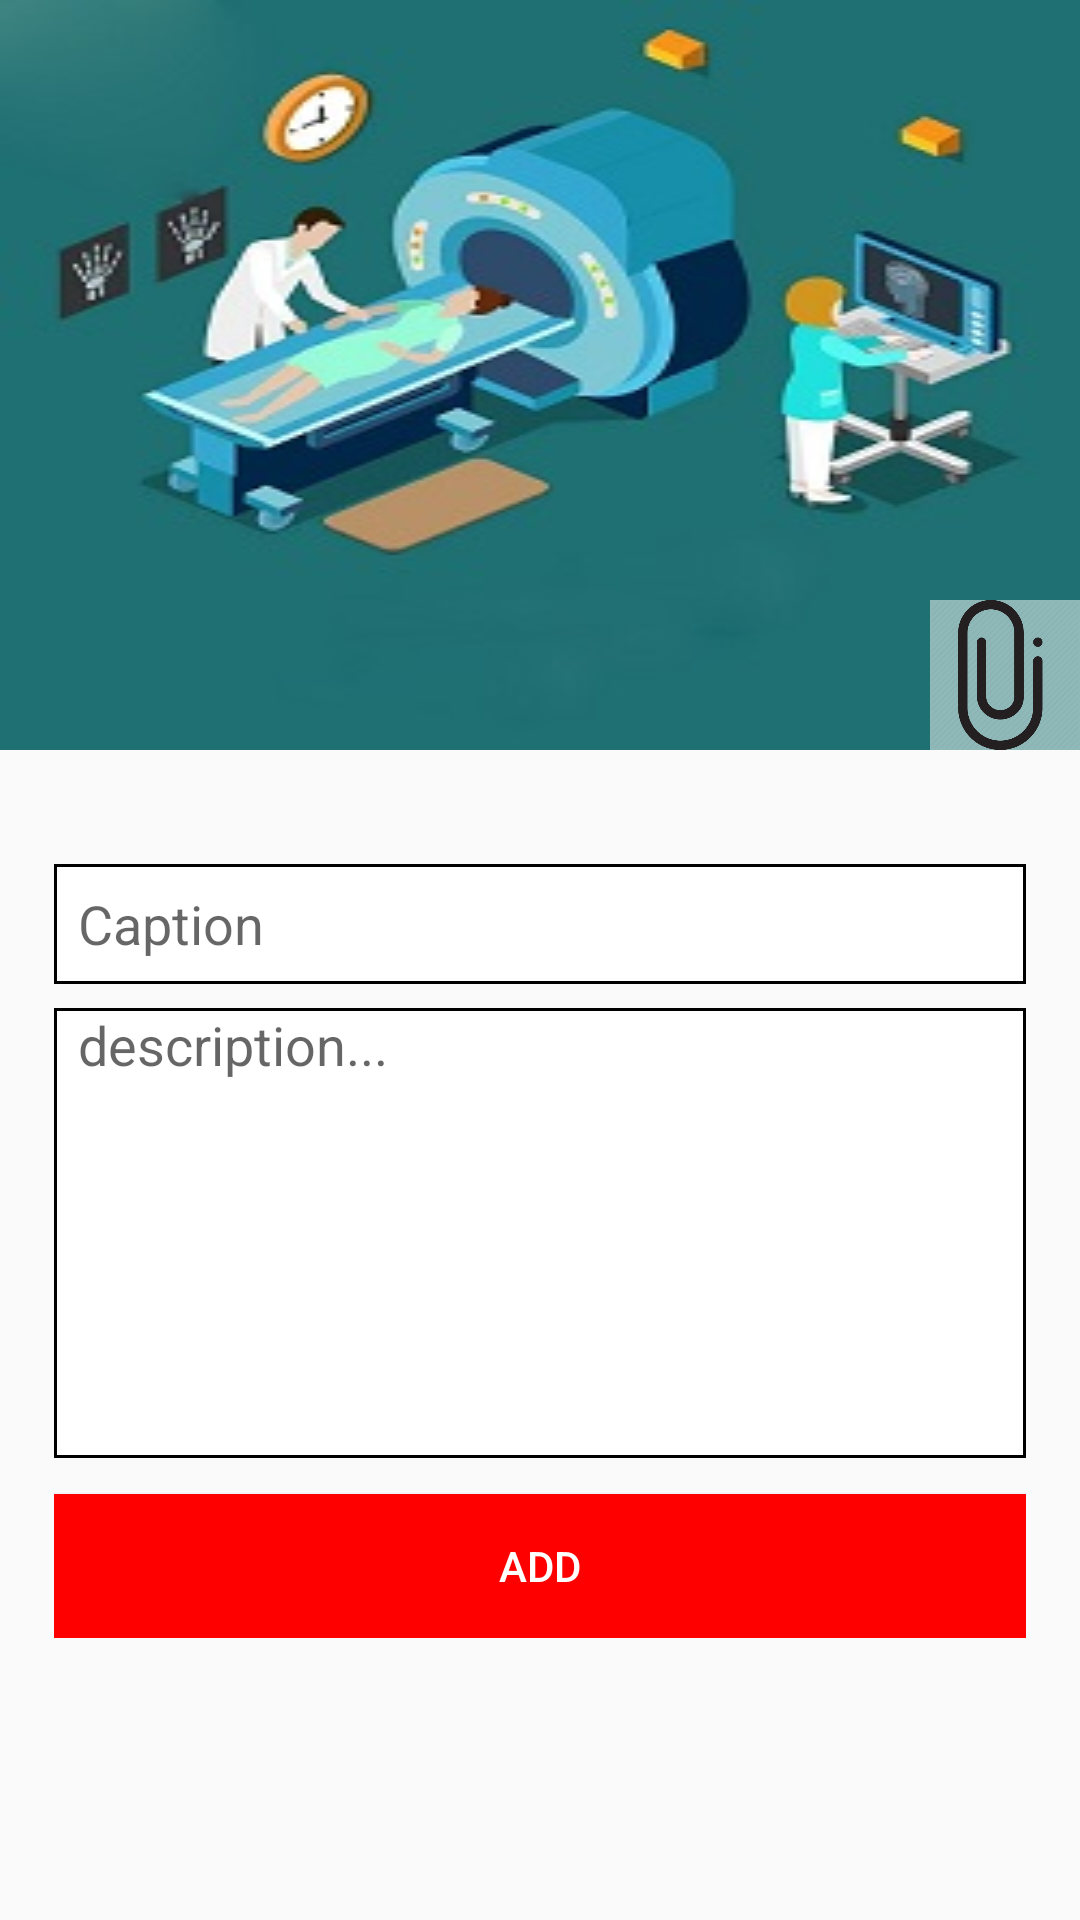

Icons on this 1080 × 1920 Android screen, each with the point to tap as (x,y):
chooseimg: (1005,675)
